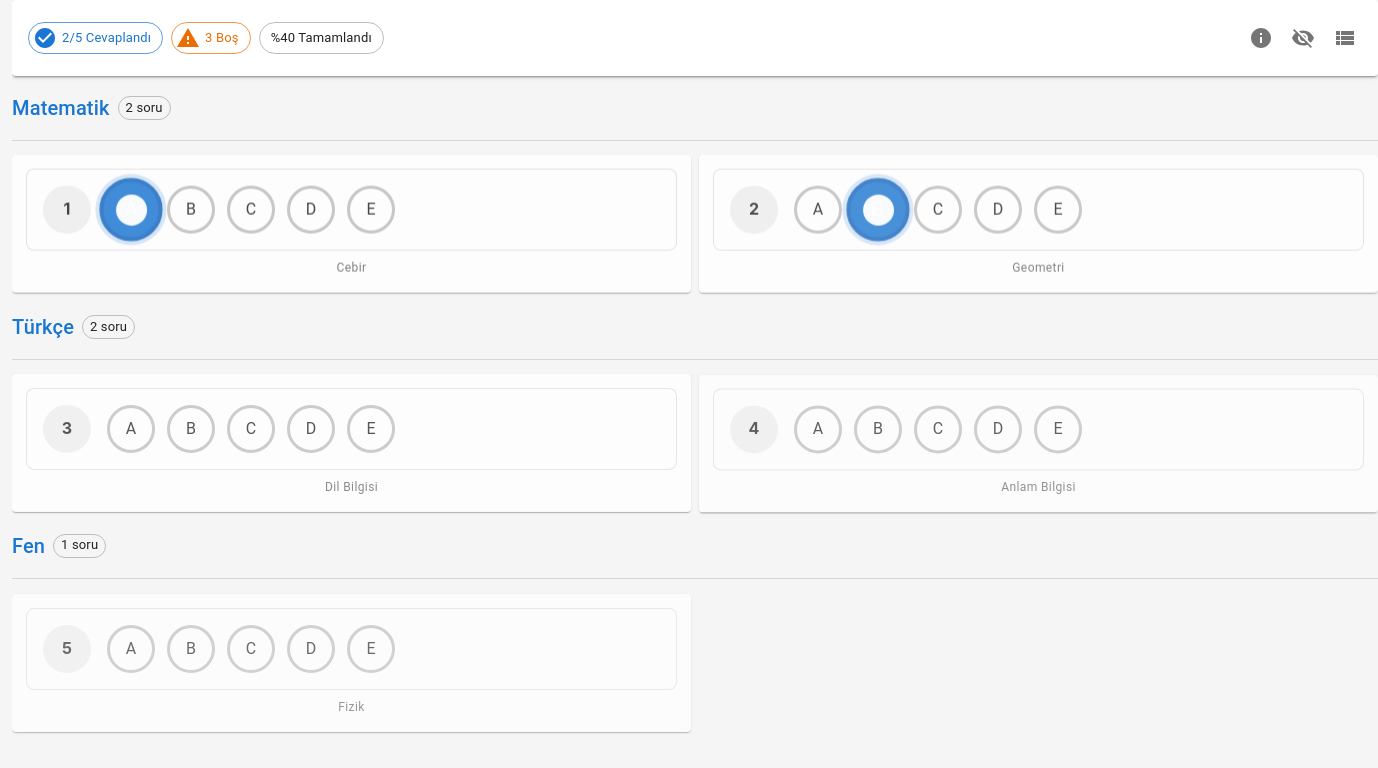
Test: BubbleSheetPanel › Boş Soru Vurgulama › boş soruları vurgulama özelliği çalışır
This screenshot has width=1378, height=768.
Click the button with test id "VisibilityOffIcon" at {"x": 1303, "y": 38}, box [1286,16,1320,60]
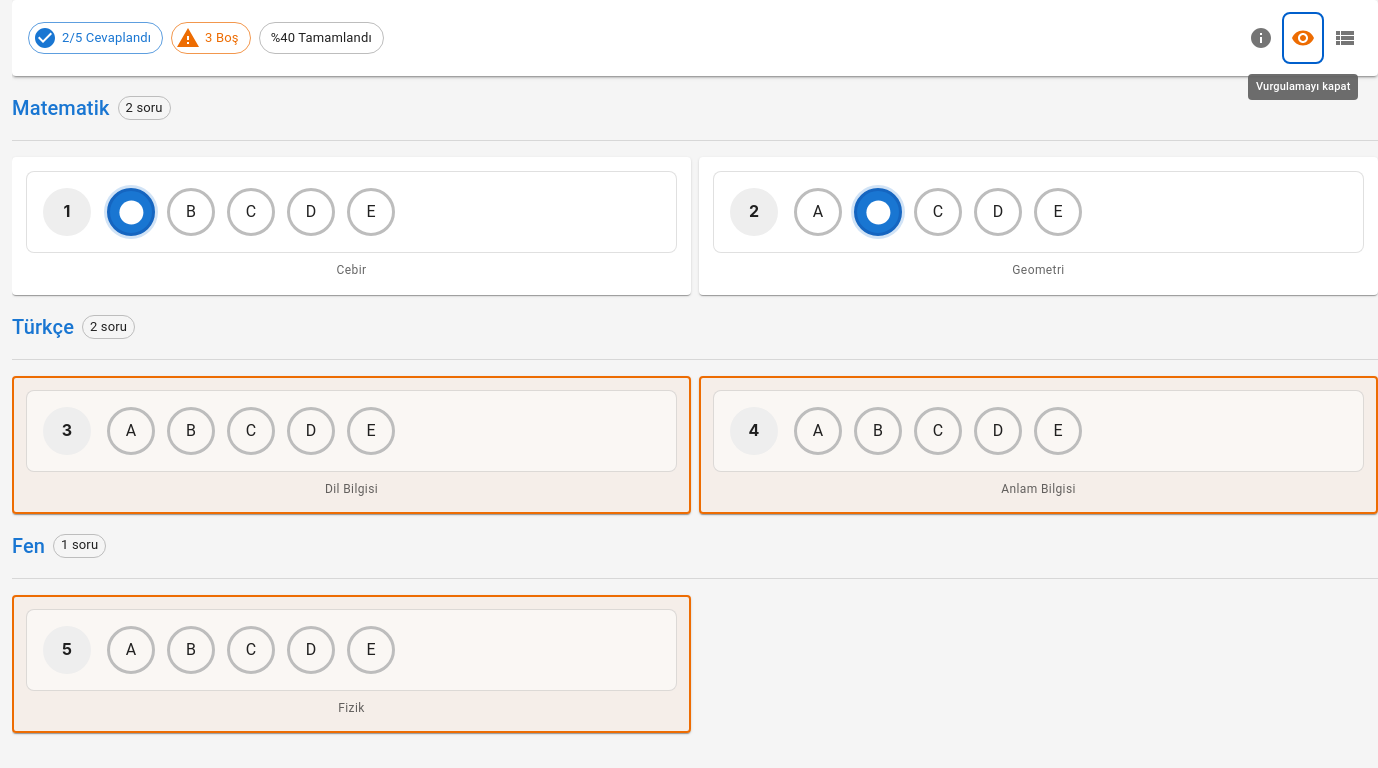
Expected: the icon with test id "VisibilityIcon" is shown, [1291,26,1315,50]
